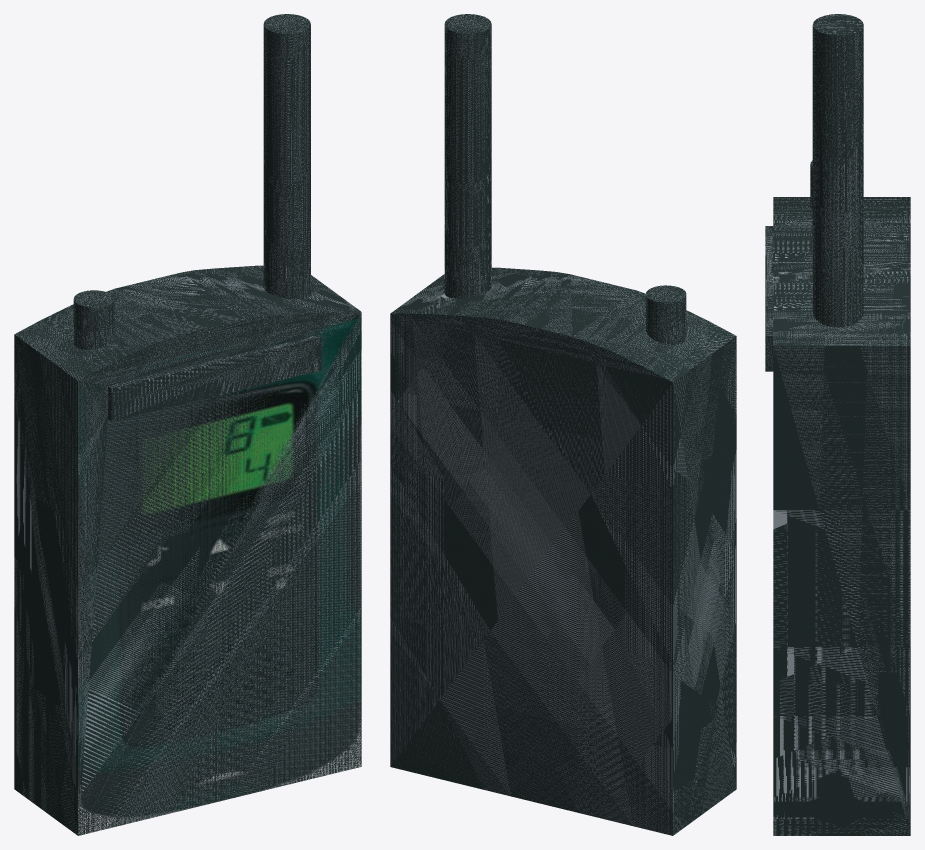
File: walkie.fbx
3 renders of one model, left to right at view 1: azimuth 30°, elevation 25°; view 2: azimuth 150°, elevation 25°; view 3: azimuth 270°, elevation 25°, orthographic. The views are drawn at different scales.
Parts seen in each view (by area): view 1: Model; view 2: Model; view 3: Model.
Part boxes in pixels (<box>): Model: <box>14,14,361,835</box>; Model: <box>390,14,736,835</box>; Model: <box>765,14,910,835</box>.
Bounding box in the file's own units: 45.88 × 113 × 18.94.
